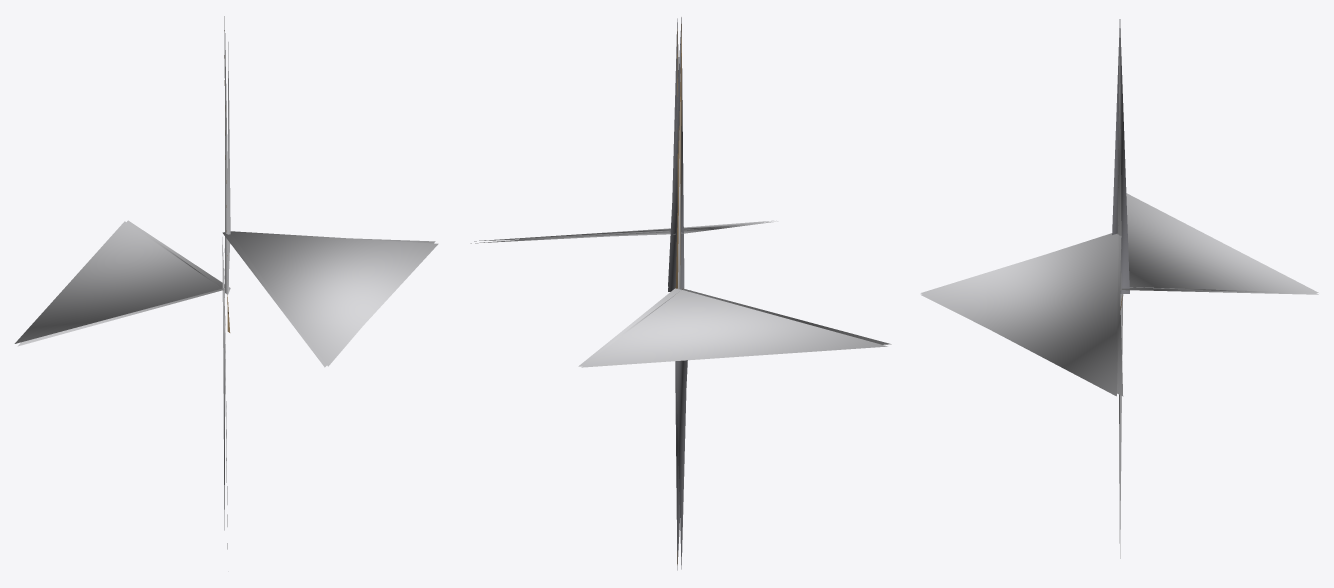
File: equip_weapon_iron_longsword.glb
The picture shows the model from 3 angles, left to right: view 1: azimuth 30°, elevation 25°; view 2: azimuth 150°, elevation 25°; view 3: azimuth 270°, elevation 25°; orthographic projection.
Parts seen in each view (by area): view 1: equip_weapon_iron_longsword; view 2: equip_weapon_iron_longsword; view 3: equip_weapon_iron_longsword.
Part boxes in pixels (bbox=[...]): equip_weapon_iron_longsword: bbox=[14, 16, 438, 549]; equip_weapon_iron_longsword: bbox=[470, 17, 891, 570]; equip_weapon_iron_longsword: bbox=[920, 19, 1318, 558].
Bounding box in the file's own units: 1.8 × 2.28 × 1.48.
